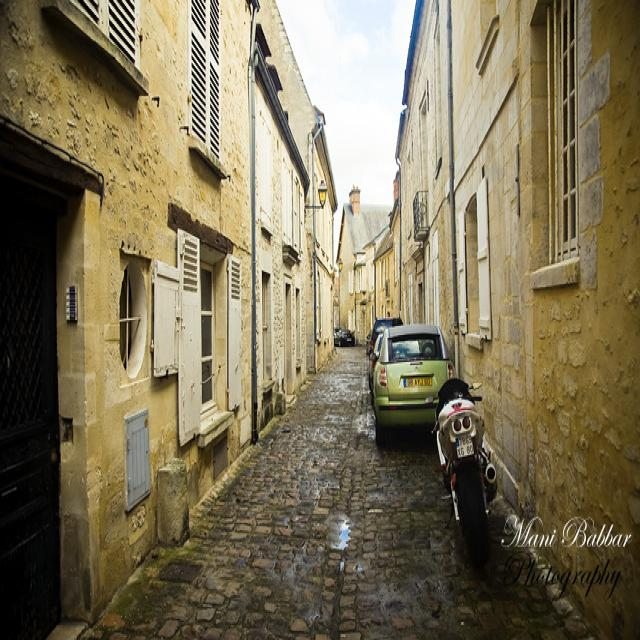motor: (431, 371, 501, 574)
